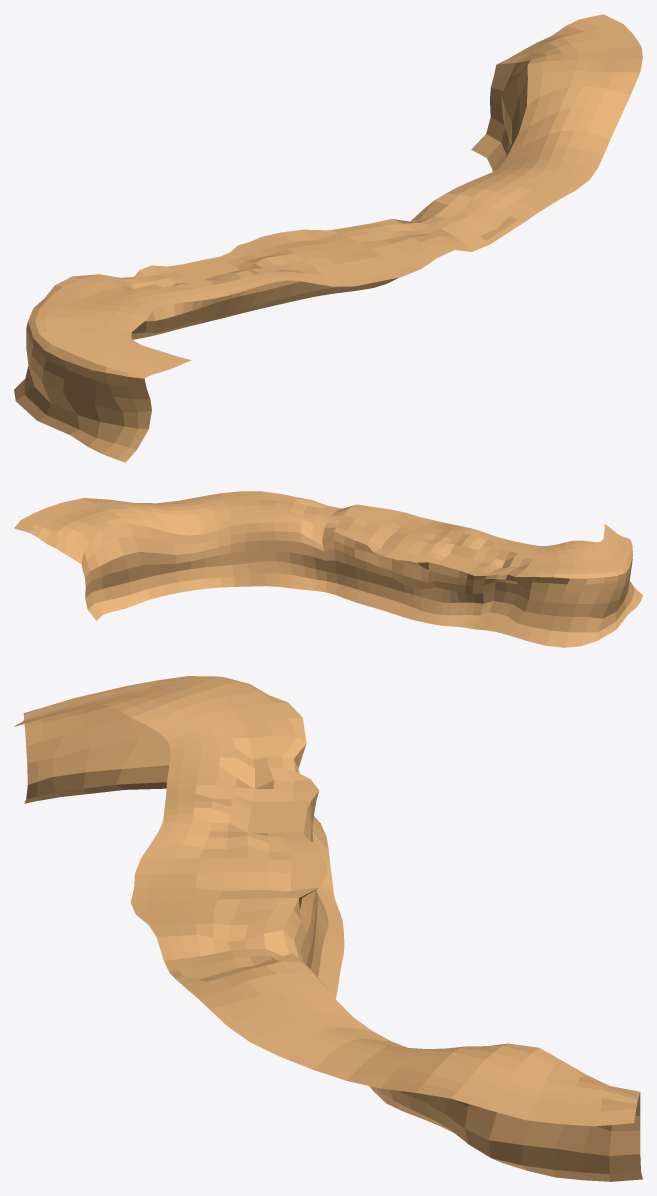
File: cliff_end.fbx
3 renders of one model, top to bottom at view 1: azimuth 30°, elevation 25°; view 2: azimuth 150°, elevation 25°; view 3: azimuth 270°, elevation 25°, orthographic. The views are drawn at different scales.
Parts seen in each view (by area): view 1: cliff end; view 2: cliff end; view 3: cliff end.
Part boxes in pixels (bbox=[...]): cliff end: bbox=[14, 14, 642, 462]; cliff end: bbox=[14, 491, 642, 647]; cliff end: bbox=[14, 676, 642, 1181].
Size of the model in its own units: 10782 by 1611 by 6112.
